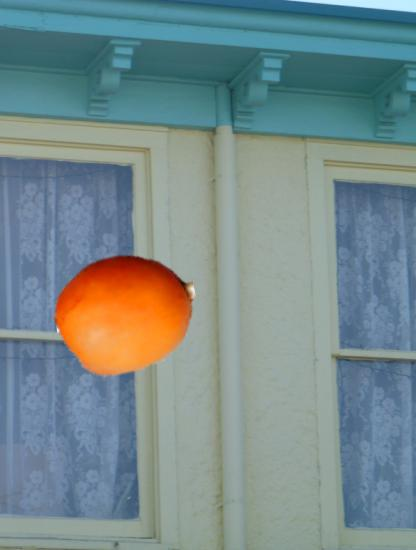Apricot: (55, 242, 198, 385)
